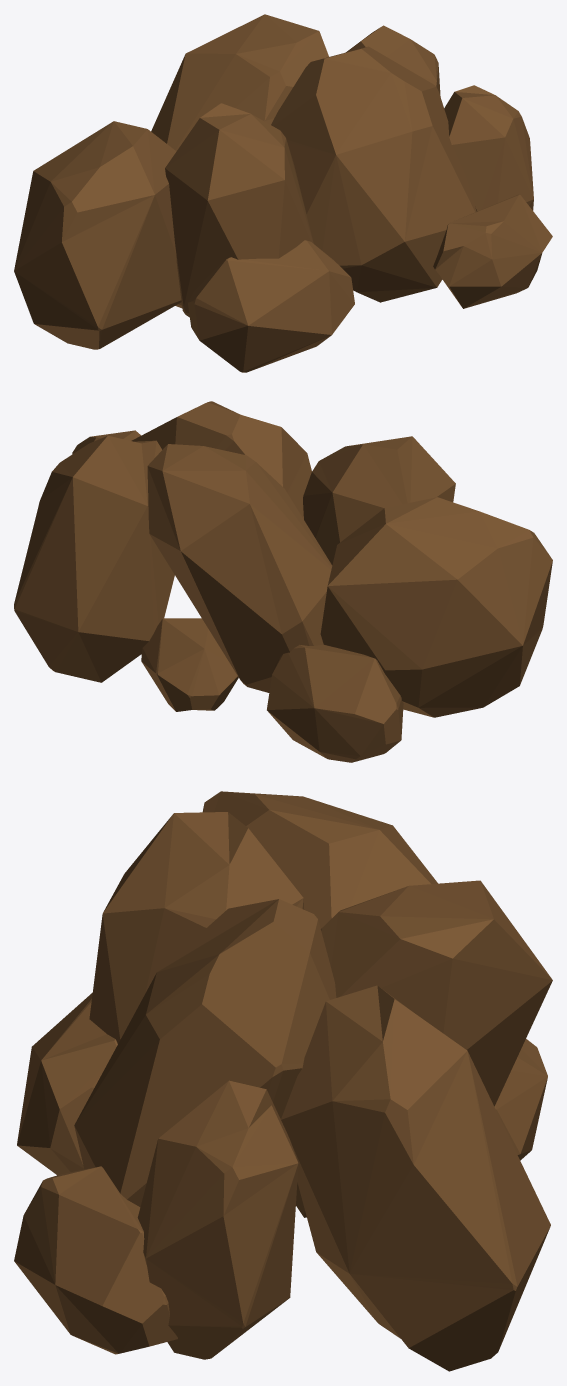
File: RockPile1.obj
3 views of the same model, one above another, from view 1: azimuth 30°, elevation 25°; view 2: azimuth 150°, elevation 25°; view 3: azimuth 270°, elevation 25° (orthographic). The views are drawn at different scales.
Parts seen in each view (by area): view 1: Icosphere.009; view 2: Icosphere.009; view 3: Icosphere.009.
Boxes of the visible parts, <box> form: Icosphere.009: <box>14,14,552,372</box>; Icosphere.009: <box>14,401,552,762</box>; Icosphere.009: <box>14,791,552,1371</box>.
Size of the model in its own units: 6.32 by 3.27 by 3.91.
